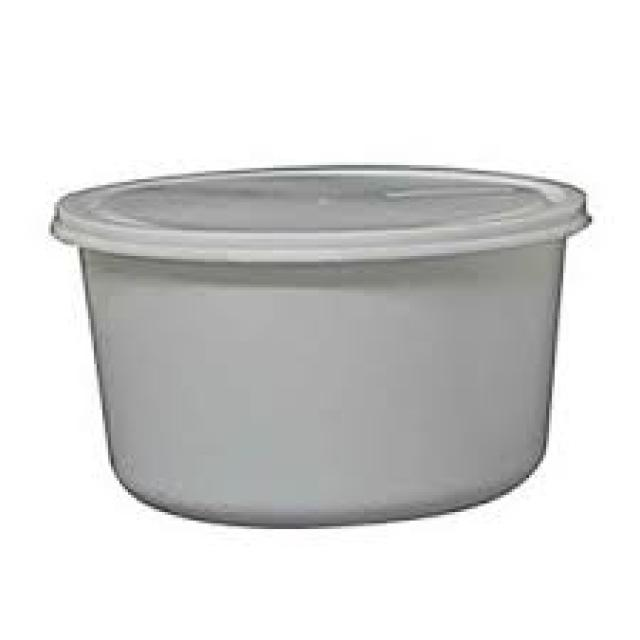disposable: (34, 137, 617, 534)
